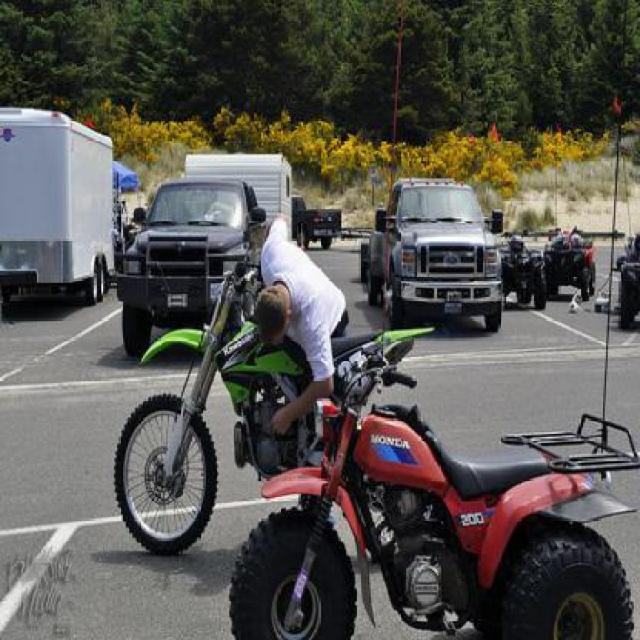Person: (253, 211, 352, 434)
